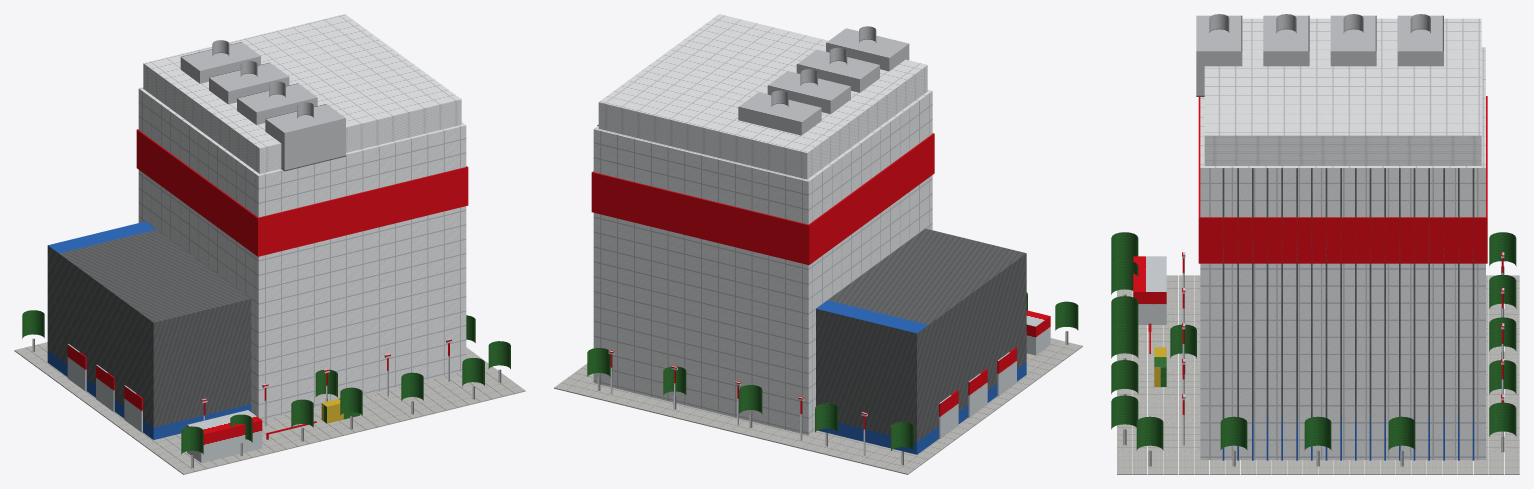
3 renders of one model, left to right at view 1: azimuth 30°, elevation 25°; view 2: azimuth 150°, elevation 25°; view 3: azimuth 270°, elevation 25°, orthographic. The views are drawn at different scales.
Parts seen in each view (by area): view 1: 28185_B33_LOTTE_Biologics_Mega_Plant_1; view 2: 28185_B33_LOTTE_Biologics_Mega_Plant_1; view 3: 28185_B33_LOTTE_Biologics_Mega_Plant_1.
Boxes of the visible parts, left/top/right/bottom form: 28185_B33_LOTTE_Biologics_Mega_Plant_1: left=14, top=14, right=525, bottom=474; 28185_B33_LOTTE_Biologics_Mega_Plant_1: left=554, top=14, right=1082, bottom=474; 28185_B33_LOTTE_Biologics_Mega_Plant_1: left=1111, top=14, right=1519, bottom=474.
Bounding box in the file's own units: 55.95 × 46.5 × 48.6.
Materials: 1 (1 with a texture image).
